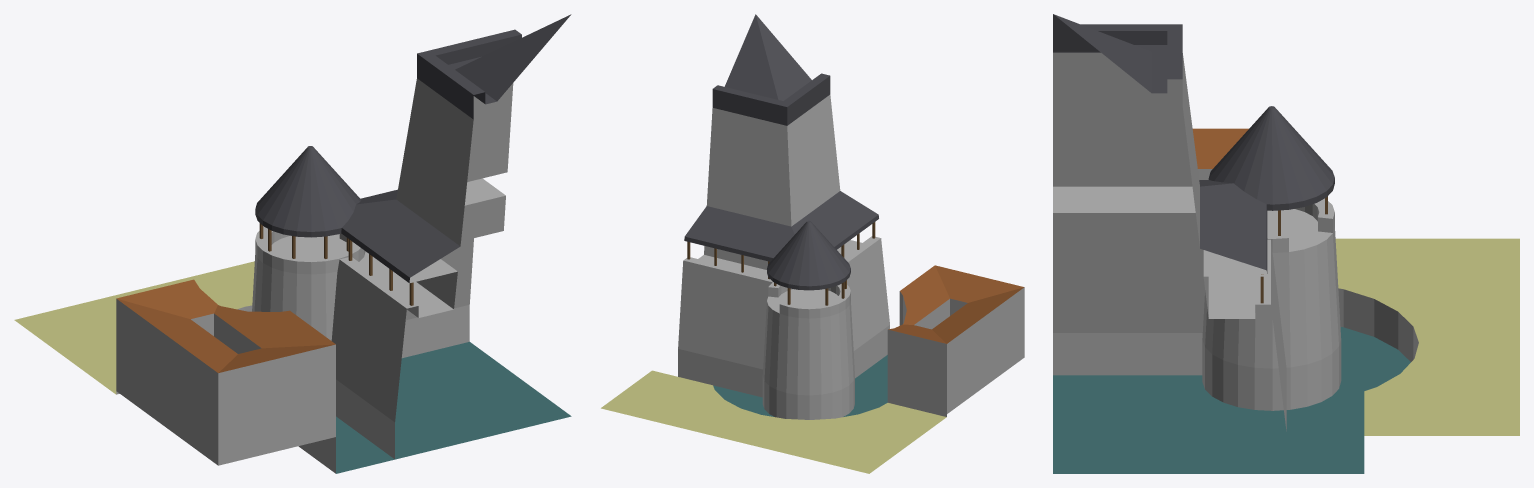
Rendered from wwc2.obj.
3 views of the same model, side by side, from view 1: azimuth 30°, elevation 25°; view 2: azimuth 150°, elevation 25°; view 3: azimuth 270°, elevation 25° (orthographic). The views are drawn at different scales.
Visible parts, largest first — view 1: wwc2; view 2: wwc2; view 3: wwc2.
Part boxes in pixels (bbox=[...]): wwc2: bbox=[14, 14, 571, 473]; wwc2: bbox=[601, 14, 1024, 473]; wwc2: bbox=[1053, 14, 1519, 473].
Size of the model in its own units: 30 by 32.63 by 30.
